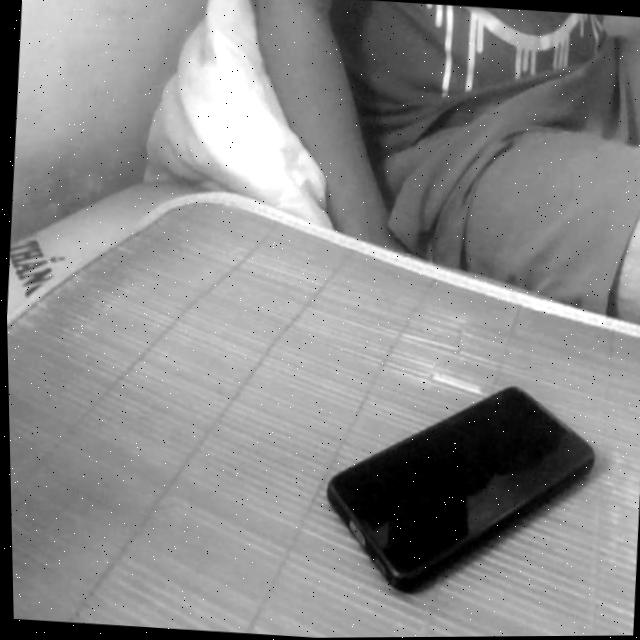phone: (297, 334, 610, 631)
